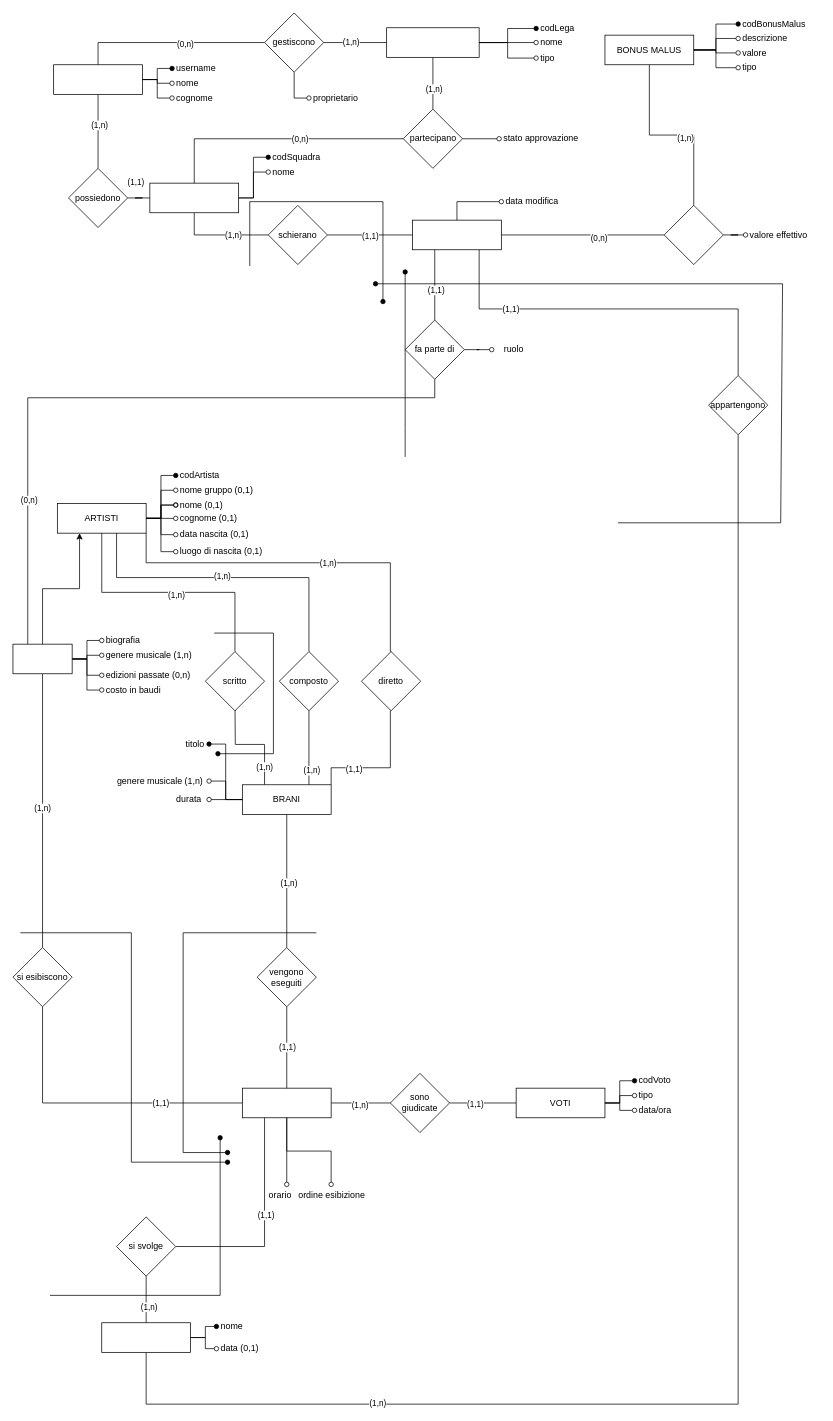
Image size: 833x1421. Some labels were removed from this diagram. The centre of each missing label's shape, as x and y in pixels:
CANTANTI: pixel 42 658
ESIBIZIONI: pixel 286 1102
FORMAZIONI: pixel 456 234
LEGHE: pixel 432 42
ottengono: pixel 693 235
SERATE: pixel 146 1337
SQUADRE: pixel 194 197
UTENTI: pixel 97 79
